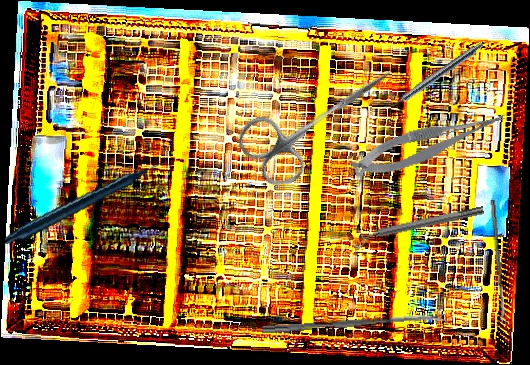Fixation Ring: (350, 200, 486, 250)
Handpiece: (4, 138, 173, 270), (383, 38, 485, 115)
Iris Scissors: (230, 37, 412, 196)
Micro Scissor: (345, 106, 514, 183)
Surgical Spoon: (261, 313, 447, 335), (490, 199, 506, 326)
